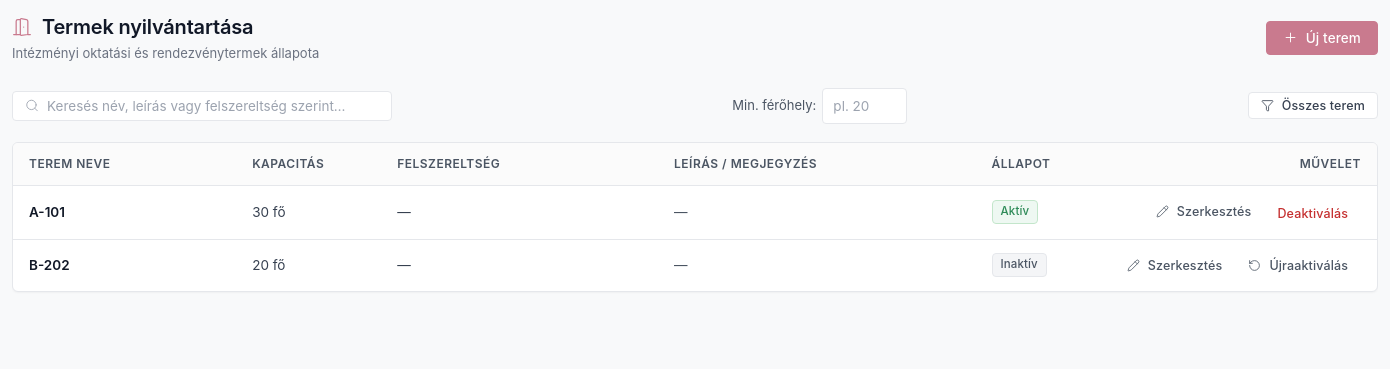
Test: RoomsPage (admin) › keeps a deactivated room in the list as inactive
The image size is (1390, 369).
Click the button "Deaktiválás" at (1313, 213), box [1264, 200, 1361, 226]
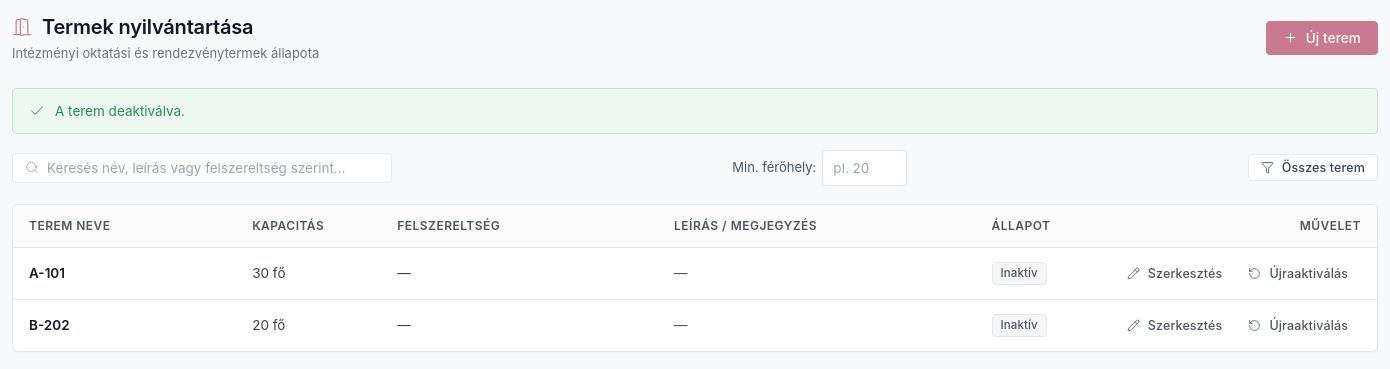
expect the text "Inaktív" is shown 2 times: met, box [992, 262, 1047, 285]; [992, 314, 1047, 337]
expect the text "A terem deaktiválva." is shown: met, box [55, 100, 185, 121]
